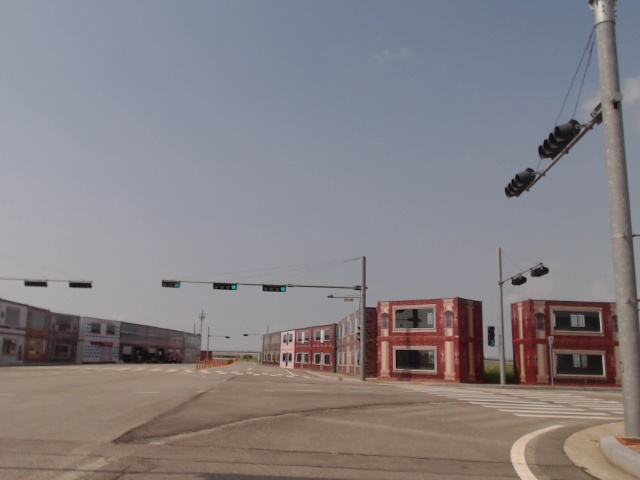straight_green_4: (213, 282, 237, 291), (263, 284, 286, 293)
